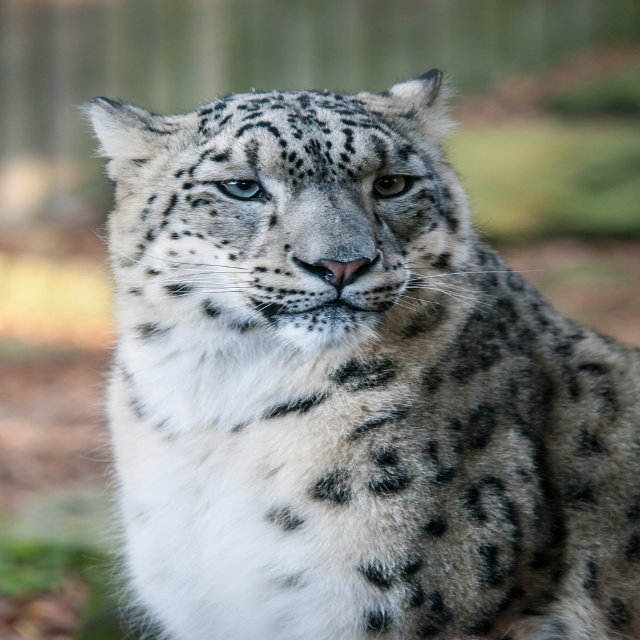Leopard: (68, 68, 639, 640)
